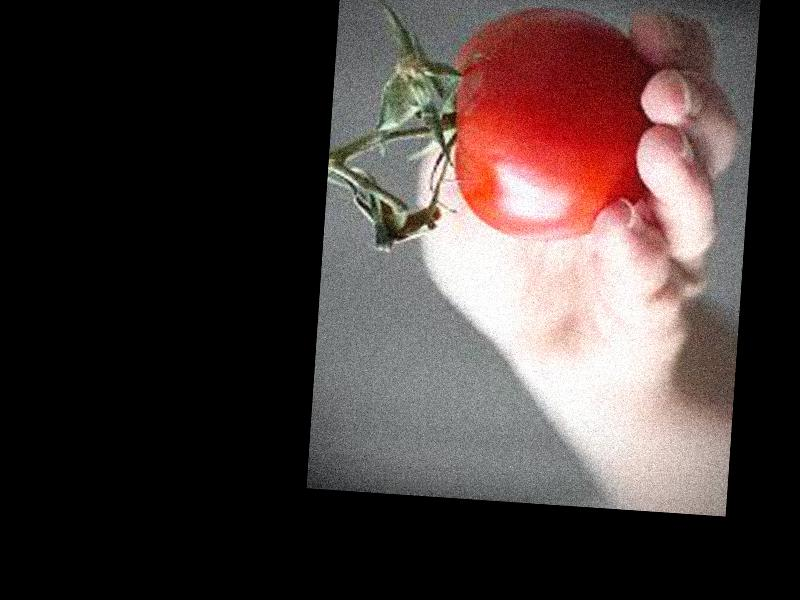Tomato: (439, 0, 658, 245)
